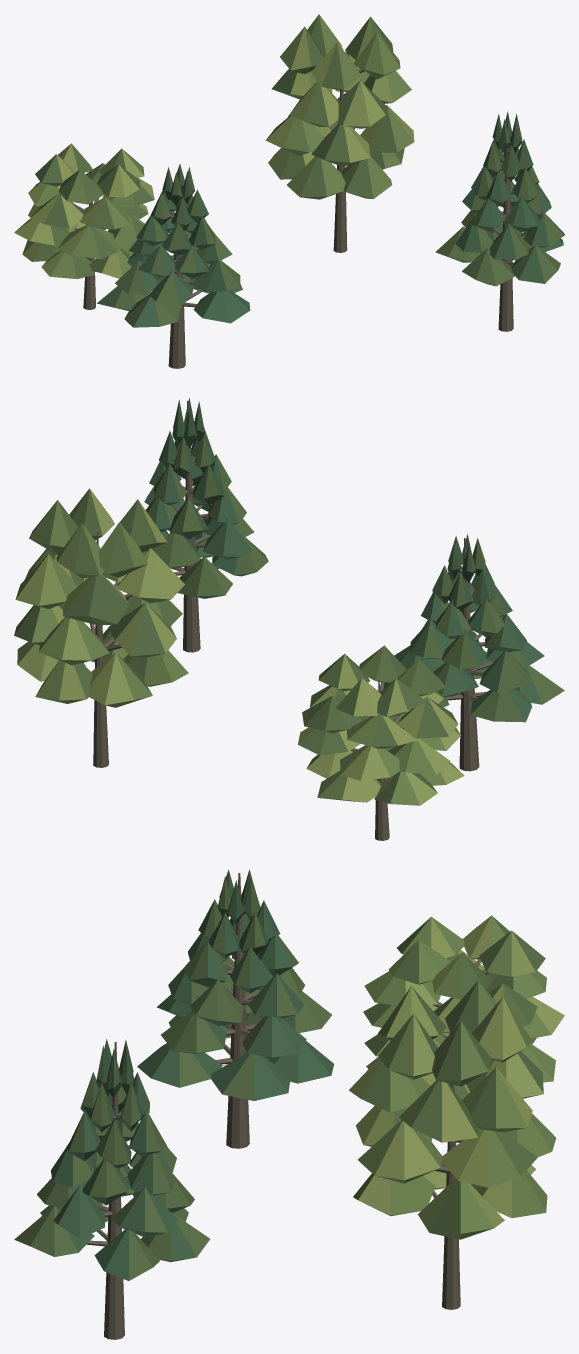
File: TREE9.glb
3 renders of one model, top to bottom at view 1: azimuth 30°, elevation 25°; view 2: azimuth 150°, elevation 25°; view 3: azimuth 270°, elevation 25°, orthographic. The views are drawn at different scales.
Parts seen in each view (by area): view 1: Fitted street and landscape details; view 2: Fitted street and landscape details; view 3: Fitted street and landscape details.
Part boxes in pixels (box(x1,y1,x2,y2)): Fitted street and landscape details: box(14, 14, 564, 368); Fitted street and landscape details: box(14, 398, 564, 840); Fitted street and landscape details: box(14, 869, 564, 1339).
Bounding box in the file's own units: 14.71 × 7.57 × 12.27.
